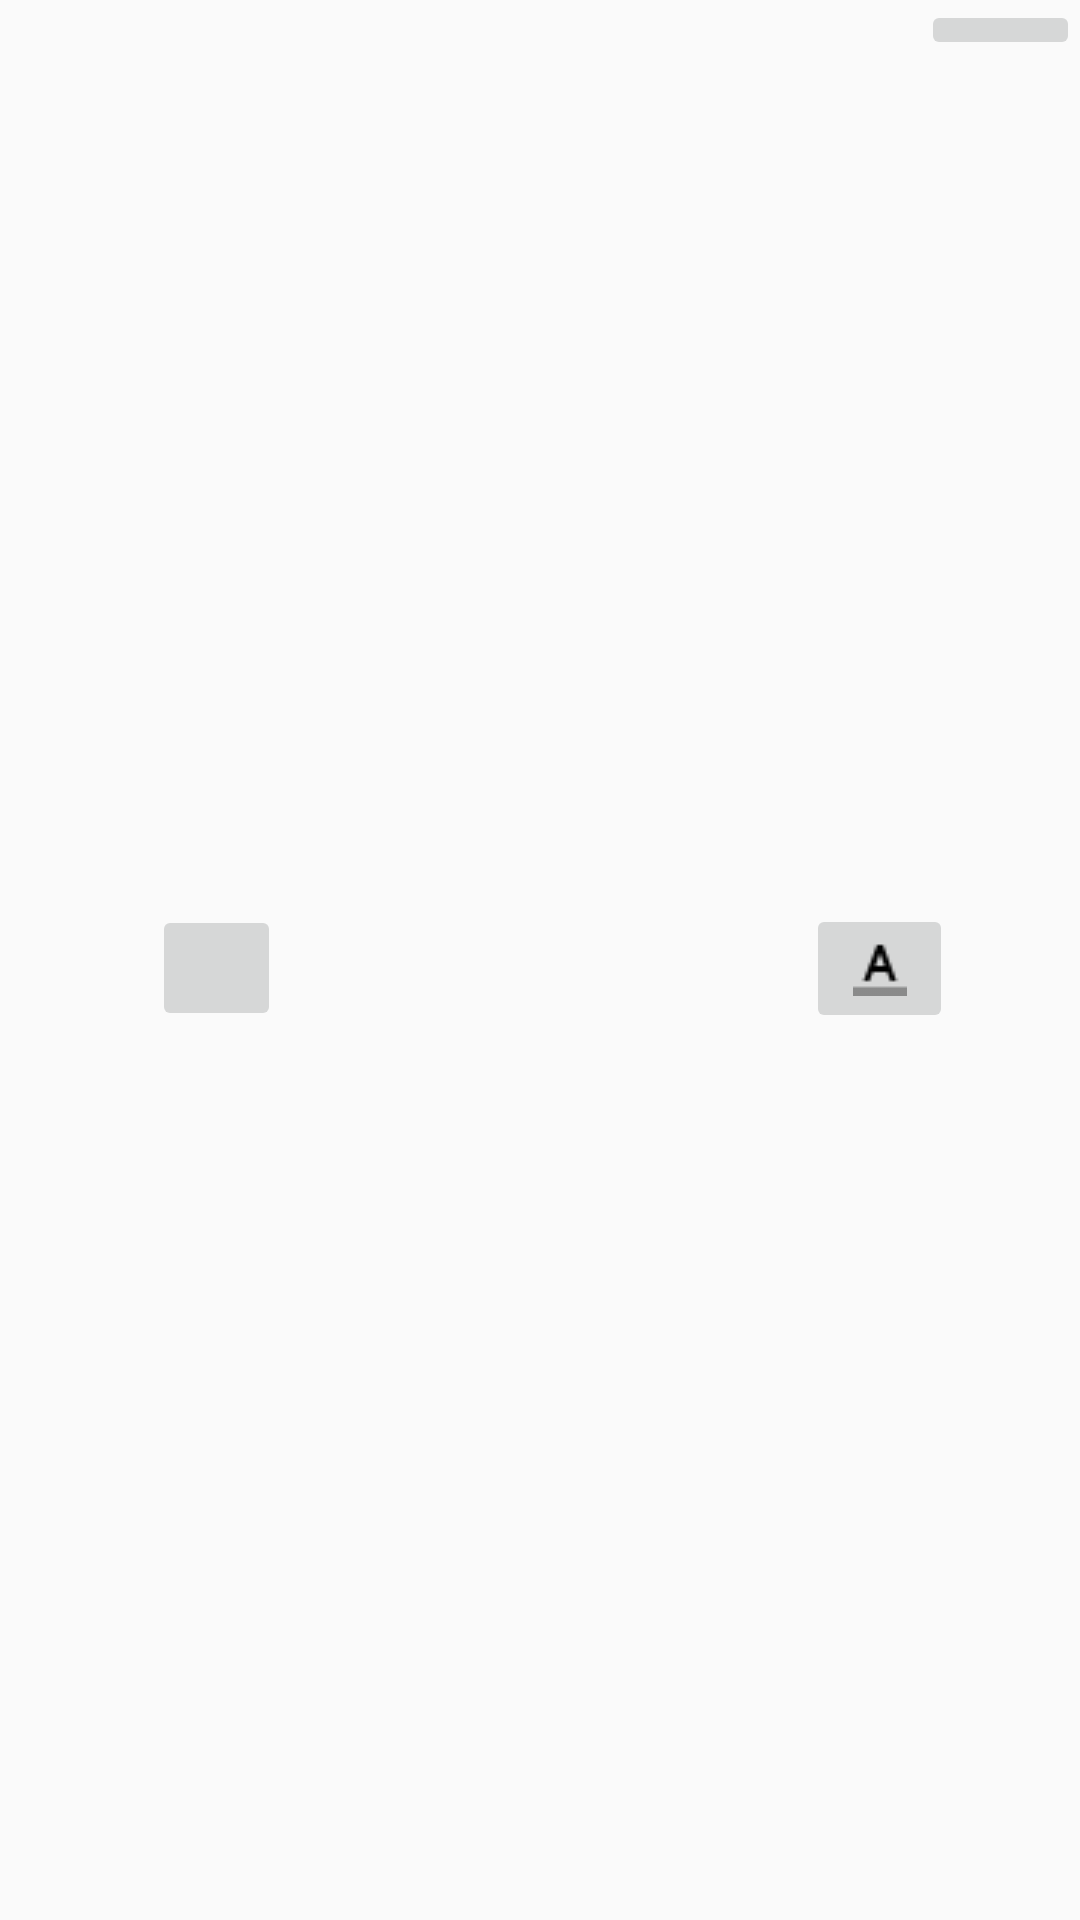

Screen size 1080 × 1920. Icon name, then its center in pixels as (x,y):
format text: (879,968)
